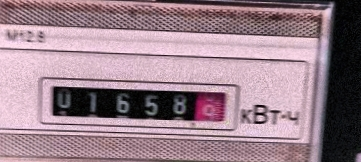0: (54, 87, 72, 108)
1: (84, 89, 99, 113)
5: (142, 92, 159, 116)
6: (113, 90, 132, 115)
8: (170, 92, 188, 115)
9: (199, 101, 215, 122)
screen: (35, 73, 242, 135)
